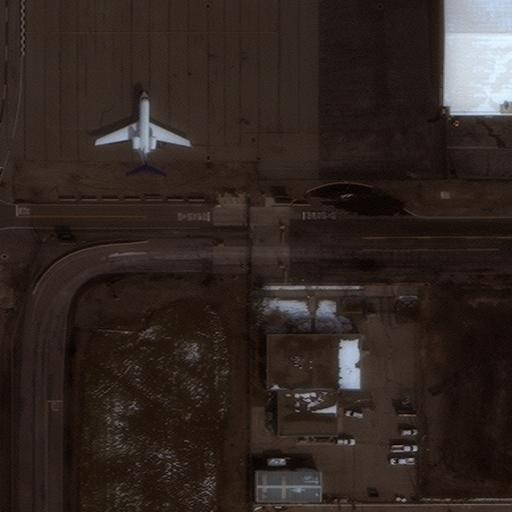Medium Civil Transport: (94, 89, 189, 173)
